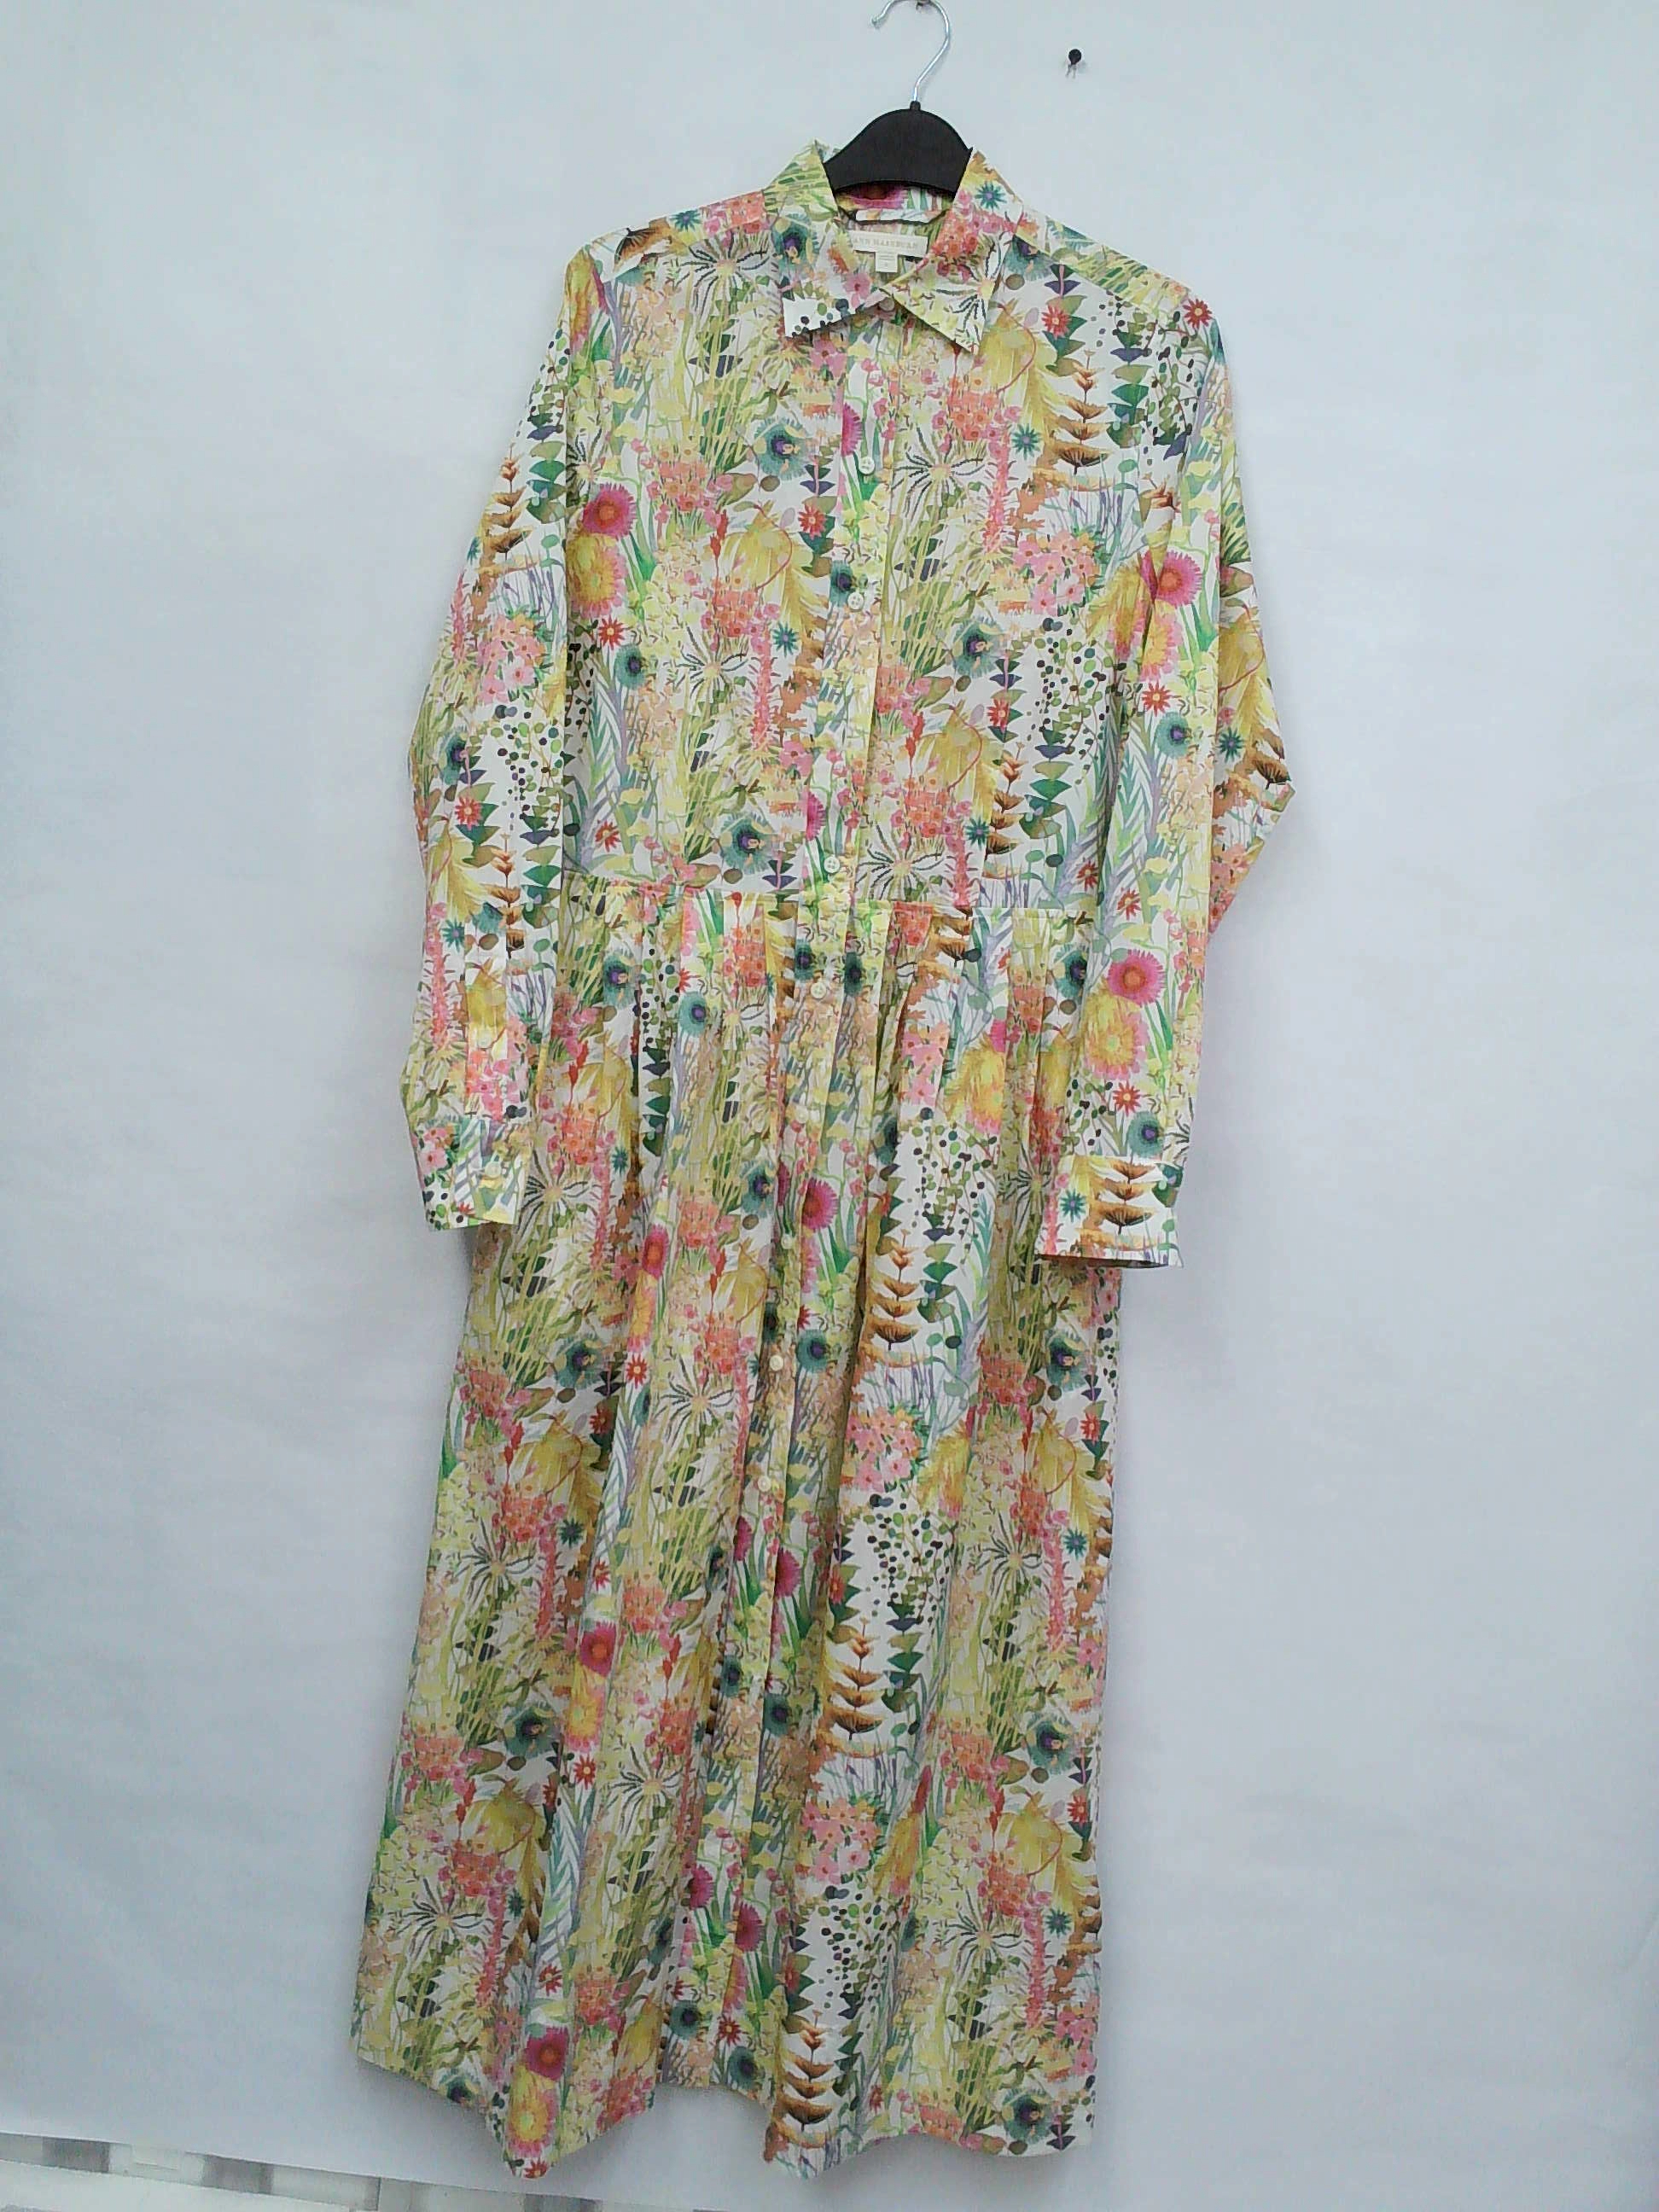structural: (1014, 1137, 1199, 1270)
